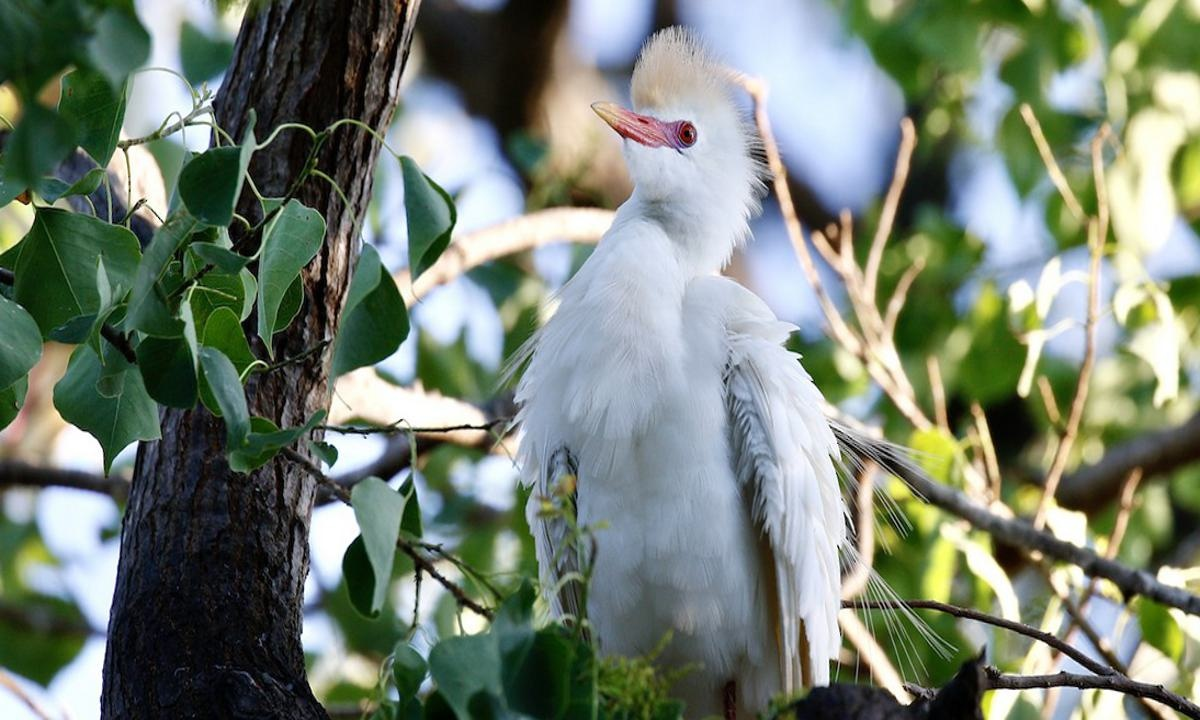egret: (544, 30, 872, 676)
